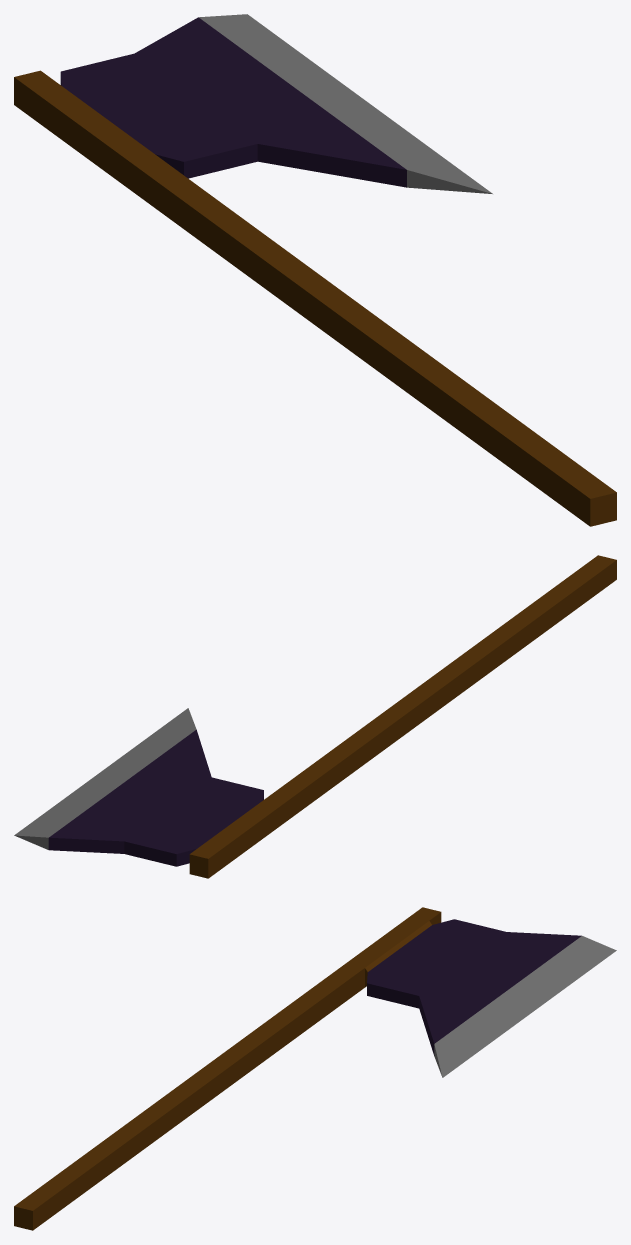
The model's file is axe.fbx.
3 views of the same model, one above another, from view 1: azimuth 30°, elevation 25°; view 2: azimuth 150°, elevation 25°; view 3: azimuth 330°, elevation 25° (orthographic). The views are drawn at different scales.
Parts seen in each view (by area): view 1: Cube; view 2: Cube; view 3: Cube.
Part boxes in pixels (x1,y1,x2,y2): Cube: (14, 14, 616, 526); Cube: (14, 555, 616, 878); Cube: (14, 907, 616, 1230).
Size of the model in its own units: 438 by 45.96 by 1783.
